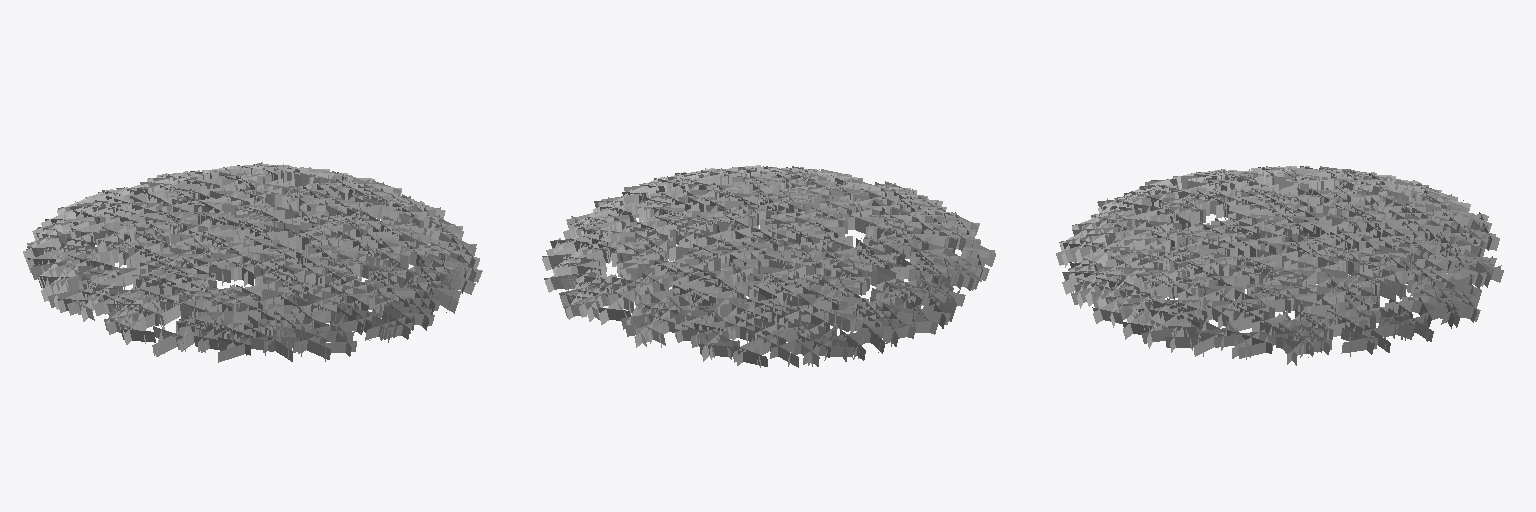
Rendered from sm_grass_terrace1x.OBJ.
3 renders of one model, left to right at view 1: azimuth 30°, elevation 25°; view 2: azimuth 150°, elevation 25°; view 3: azimuth 270°, elevation 25°, orthographic.
Visible parts, largest first — view 1: ZBrushPolyMesh3D; view 2: ZBrushPolyMesh3D; view 3: ZBrushPolyMesh3D.
Boxes of the visible parts, box(x1,y1,x2,y2) form: ZBrushPolyMesh3D: box(23, 162, 482, 362); ZBrushPolyMesh3D: box(542, 165, 995, 367); ZBrushPolyMesh3D: box(1056, 166, 1503, 365).
Bounding box in the file's own units: 6.09 × 0.5375 × 6.12.